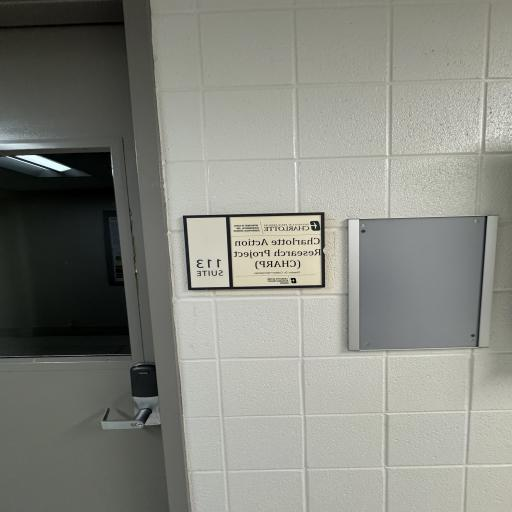door: (0, 0, 161, 512)
room 113 sign: (186, 208, 326, 292)
